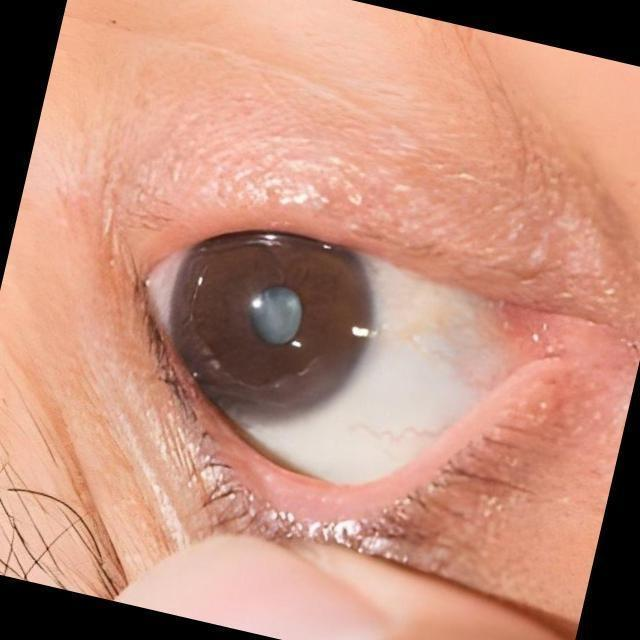Cataract: (162, 215, 384, 415)
